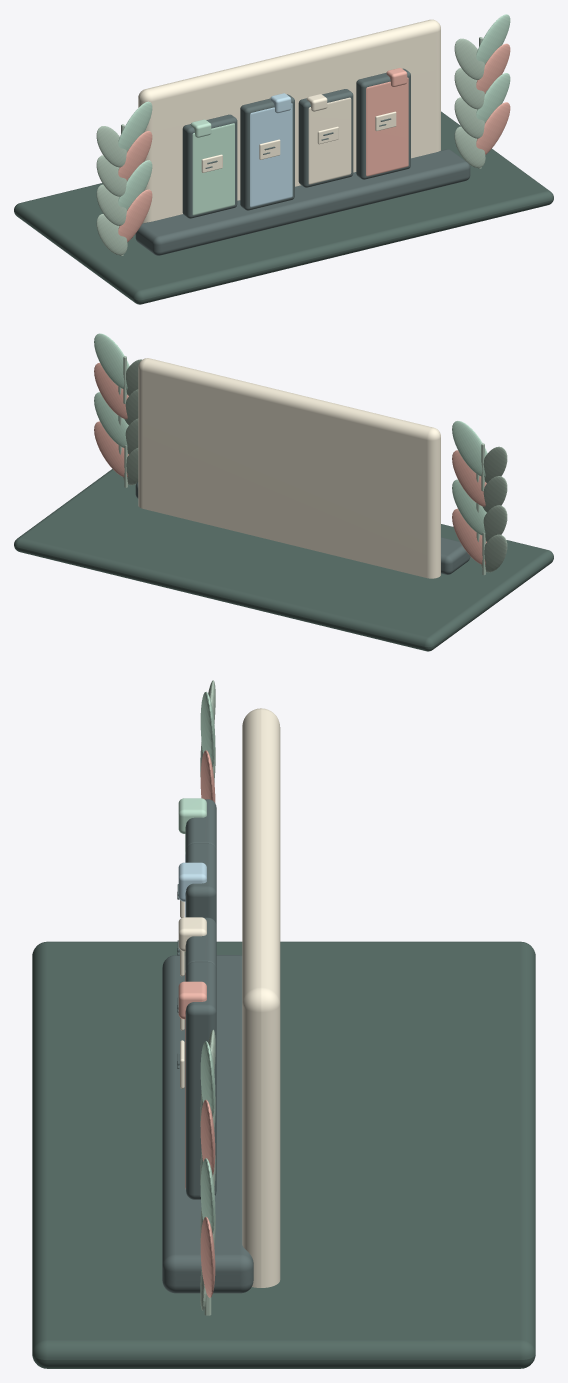
File: archive-file-garden.glb
The picture shows the model from 3 angles, top to bottom: view 1: azimuth 30°, elevation 25°; view 2: azimuth 150°, elevation 25°; view 3: azimuth 270°, elevation 25°; orthographic projection. The views are drawn at different scales.
Parts seen in each view (by area): view 1: archive dark base, archive paper panel, archive shelf rail, archive standing file 1 folder, archive standing file 3 folder, archive standing file 0 folder, archive standing file 2 folder, archive standing file 1 outline, archive standing file 3 outline, archive standing file 0 outline, archive standing file 2 outline, archive right leaf 0a (+15 smaller); view 2: archive paper panel, archive dark base, archive left leaf 3a, archive right leaf 3a, archive right leaf 1a, archive left leaf 1a, archive left leaf 2a, archive right leaf 2a, archive right leaf 0a, archive left leaf 0a, archive shelf rail, archive left leaf 0b (+4 smaller); view 3: archive dark base, archive paper panel, archive shelf rail, archive standing file 3 outline, archive standing file 1 outline, archive standing file 0 outline, archive standing file 2 outline, archive right leaf 0a, archive right leaf 2a, archive left leaf 3a, archive right leaf 1a, archive right leaf 3a.
Part boxes in pixels (x1,y1,x2,y2): archive dark base: (14, 111, 553, 304); archive paper panel: (138, 19, 440, 223); archive shelf rail: (135, 149, 470, 255); archive standing file 1 folder: (250, 103, 292, 207); archive standing file 3 folder: (366, 77, 408, 176); archive standing file 0 folder: (192, 123, 234, 215); archive standing file 2 folder: (308, 97, 351, 184); archive standing file 1 outline: (240, 94, 294, 210); archive standing file 3 outline: (356, 68, 410, 179); archive standing file 0 outline: (182, 114, 237, 218); archive standing file 2 outline: (298, 89, 353, 187); archive right leaf 0a: (476, 102, 510, 154); archive paper panel: (138, 358, 440, 578); archive dark base: (14, 469, 553, 651); archive left leaf 3a: (452, 421, 487, 477); archive right leaf 3a: (94, 333, 129, 389); archive right leaf 1a: (94, 392, 128, 447); archive left leaf 1a: (452, 479, 486, 535); archive left leaf 2a: (452, 450, 486, 506); archive right leaf 2a: (94, 363, 128, 419); archive right leaf 0a: (94, 421, 128, 477); archive left leaf 0a: (452, 508, 486, 564); archive shelf rail: (135, 482, 470, 574); archive left leaf 0b: (480, 534, 507, 572); archive dark base: (32, 941, 535, 1368); archive paper panel: (242, 708, 280, 1287); archive shelf rail: (162, 955, 253, 1293); archive standing file 3 outline: (186, 961, 216, 1199); archive standing file 1 outline: (186, 843, 216, 925); archive standing file 0 outline: (186, 799, 216, 851); archive standing file 2 outline: (186, 917, 216, 969); archive right leaf 0a: (200, 1217, 215, 1297); archive right leaf 2a: (200, 1099, 215, 1176); archive left leaf 3a: (200, 691, 215, 768); archive right leaf 1a: (200, 1158, 215, 1234); archive right leaf 3a: (200, 1041, 215, 1117).
Bounding box in the file's own units: 5.1 × 2.01 × 2.65.
